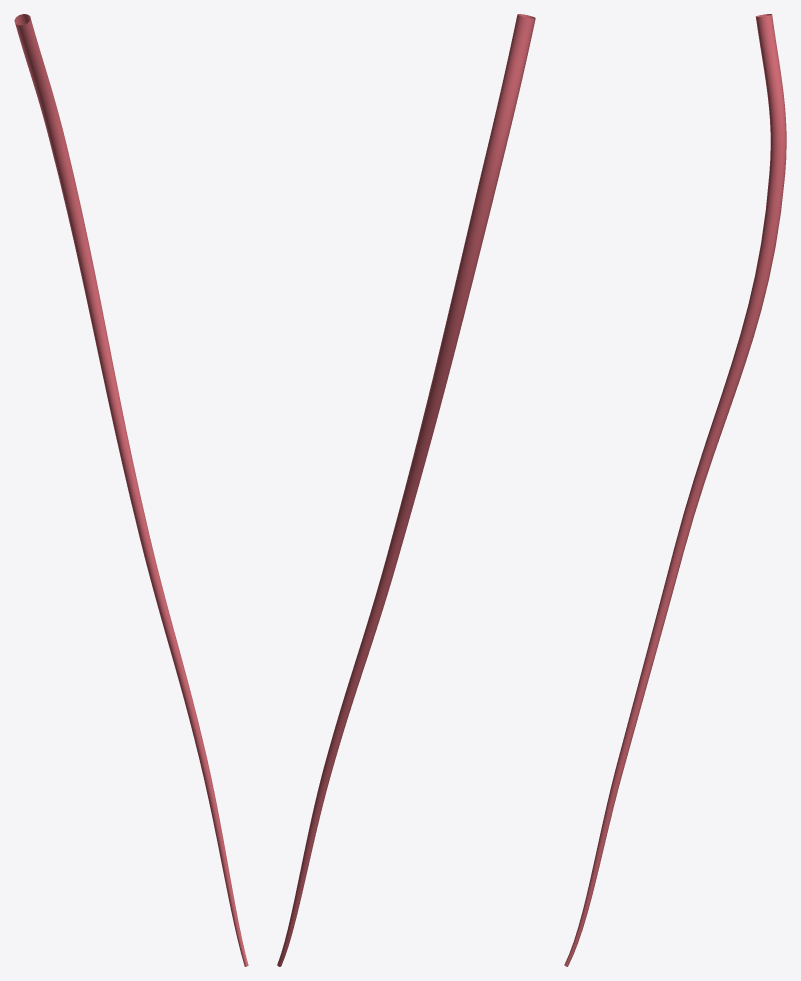
3 renders of one model, left to right at view 1: azimuth 30°, elevation 25°; view 2: azimuth 210°, elevation 25°; view 3: azimuth 270°, elevation 25°, orthographic. The views are drawn at different scales.
Parts seen in each view (by area): view 1: ZA_44b25cba643aee47; view 2: ZA_44b25cba643aee47; view 3: ZA_44b25cba643aee47.
Boxes of the visible parts, box(x1,y1,x2,y2) form: ZA_44b25cba643aee47: box(14, 14, 248, 966); ZA_44b25cba643aee47: box(277, 14, 535, 966); ZA_44b25cba643aee47: box(564, 14, 786, 966).
Bounding box in the file's own units: 0.0189 × 0.1235 × 0.0278.
